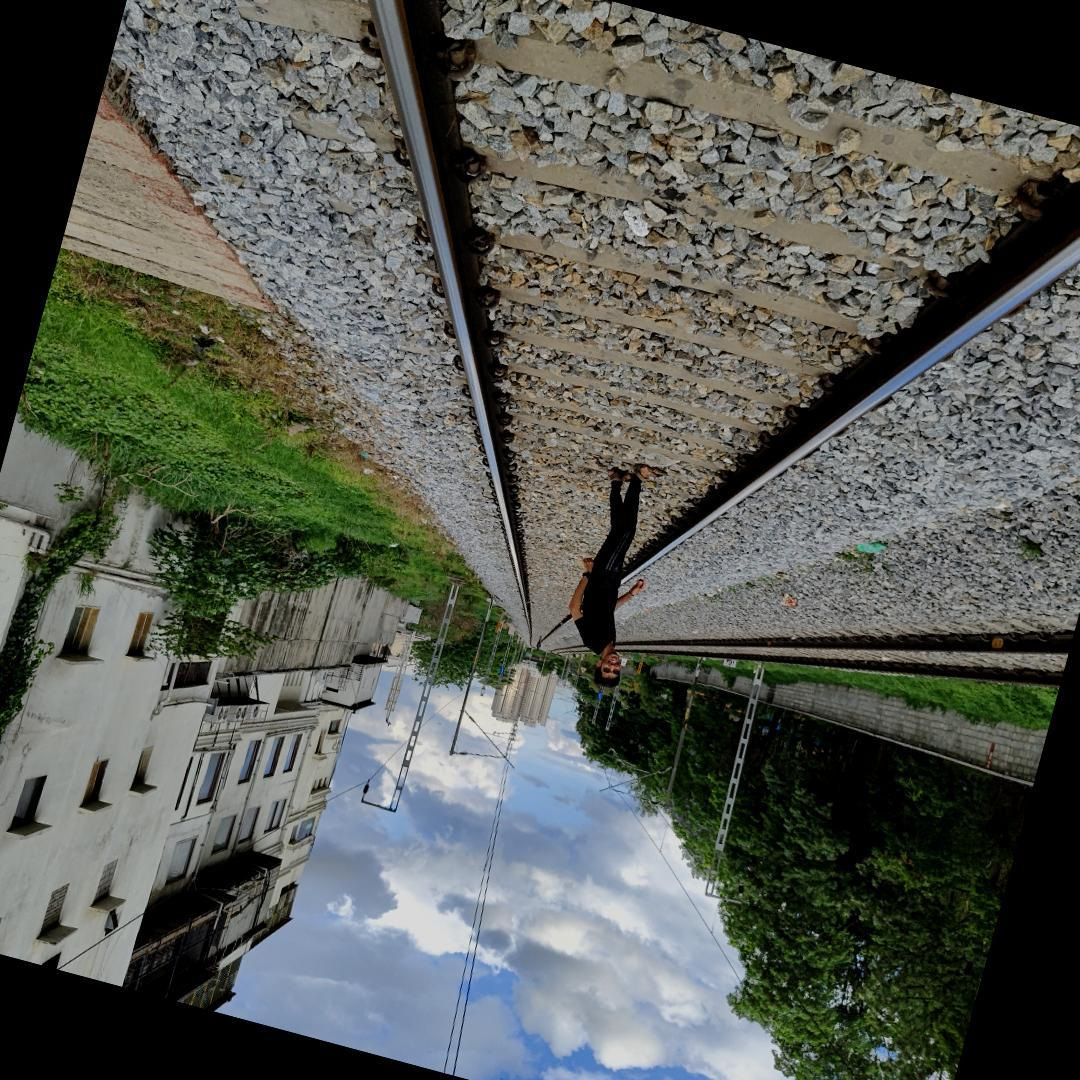standing: (537, 444, 690, 696)
